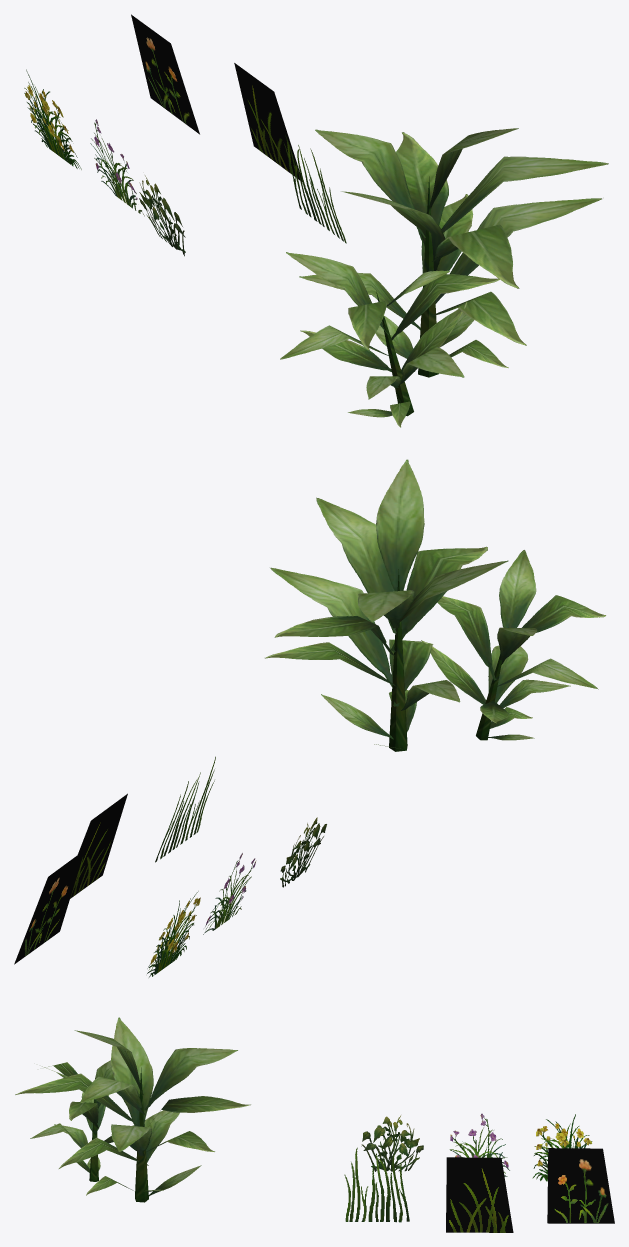
Rendered from 2_WSS_DaLvYe_01.FBX.
3 views of the same model, one above another, from view 1: azimuth 30°, elevation 25°; view 2: azimuth 150°, elevation 25°; view 3: azimuth 270°, elevation 25° (orthographic). The views are drawn at different scales.
Visible parts, largest first — view 1: 2_WSS_DaLvYe_01, 2_WSS_KaiHuaCao_01, 2_WSS_MaoMaoCao_01, 2_WSS_XiaoHuangHua_01, 2_WSS_MianTiaoCao_01, 2_WSS_JiXianLan_01, 2_WSS_KaiHuaCao_02; view 2: 2_WSS_DaLvYe_01, 2_WSS_KaiHuaCao_01, 2_WSS_MaoMaoCao_01, 2_WSS_XiaoHuangHua_01, 2_WSS_MianTiaoCao_01, 2_WSS_JiXianLan_01, 2_WSS_KaiHuaCao_02; view 3: 2_WSS_DaLvYe_01, 2_WSS_KaiHuaCao_01, 2_WSS_MaoMaoCao_01, 2_WSS_MianTiaoCao_01, 2_WSS_JiXianLan_01, 2_WSS_XiaoHuangHua_01, 2_WSS_KaiHuaCao_02.
Boxes of the visible parts, <box> form: 2_WSS_DaLvYe_01: <box>280,128,608,427</box>; 2_WSS_KaiHuaCao_01: <box>131,14,199,134</box>; 2_WSS_MaoMaoCao_01: <box>234,63,302,181</box>; 2_WSS_XiaoHuangHua_01: <box>24,69,81,169</box>; 2_WSS_MianTiaoCao_01: <box>283,135,346,243</box>; 2_WSS_JiXianLan_01: <box>139,175,185,256</box>; 2_WSS_KaiHuaCao_02: <box>90,119,144,216</box>; 2_WSS_DaLvYe_01: <box>265,459,605,751</box>; 2_WSS_KaiHuaCao_01: <box>14,850,84,964</box>; 2_WSS_MaoMaoCao_01: <box>70,793,127,898</box>; 2_WSS_XiaoHuangHua_01: <box>147,891,200,977</box>; 2_WSS_MianTiaoCao_01: <box>155,756,215,862</box>; 2_WSS_JiXianLan_01: <box>280,817,326,887</box>; 2_WSS_KaiHuaCao_02: <box>203,853,256,934</box>; 2_WSS_DaLvYe_01: <box>15,1017,250,1202</box>; 2_WSS_KaiHuaCao_01: <box>547,1148,614,1223</box>; 2_WSS_MaoMaoCao_01: <box>446,1157,513,1232</box>; 2_WSS_MianTiaoCao_01: <box>344,1147,409,1222</box>; 2_WSS_JiXianLan_01: <box>361,1115,423,1171</box>; 2_WSS_XiaoHuangHua_01: <box>532,1114,592,1181</box>; 2_WSS_KaiHuaCao_02: <box>449,1113,509,1176</box>.
Bounding box in the file's own units: 317 × 237 × 701.
